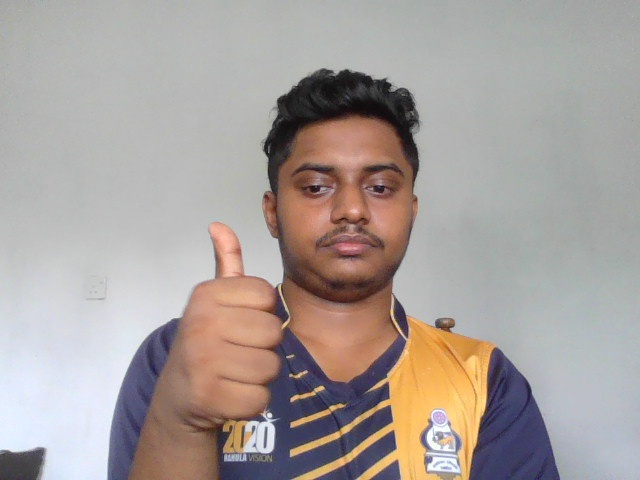Agree: (168, 220, 285, 425)
